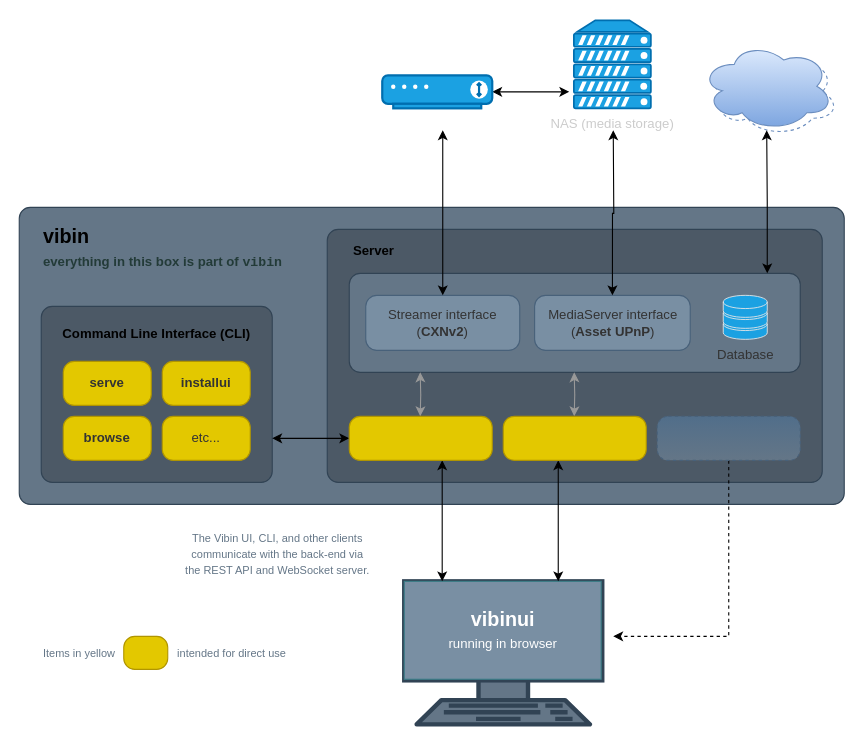
The diagram is 864 pixels wide and 744 high, and some of its shapes have lost their labels. The centre of each missing label's shape, as x and y in pixels:
"REST API" goes at [420,437].
"Streamer" goes at [437,91].
"vibinui static files" goes at [728,437].
"WebSocket Server" goes at [574,437].
"Wikipedia, etc." goes at [766,85].
